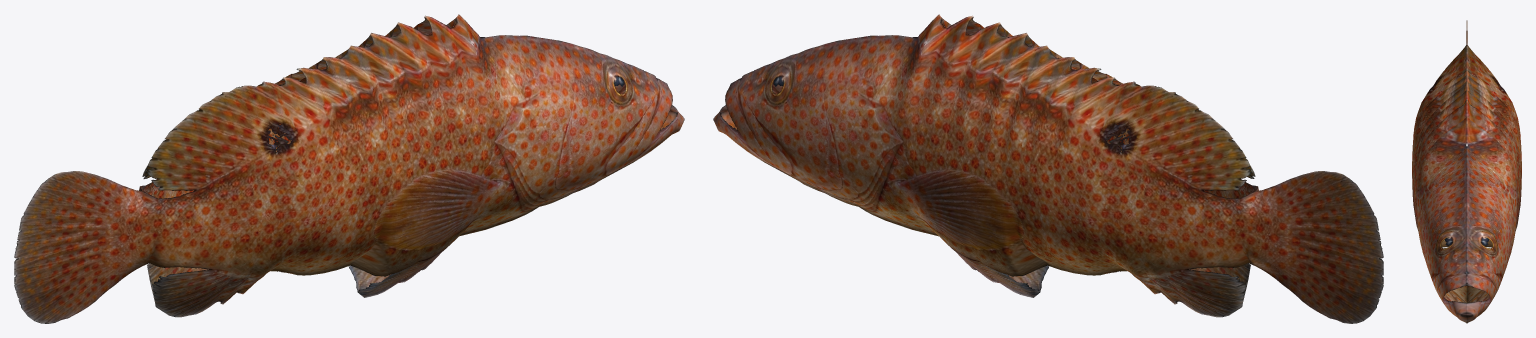
File: spotted-grouper.glb
3 renders of one model, left to right at view 1: azimuth 30°, elevation 25°; view 2: azimuth 150°, elevation 25°; view 3: azimuth 270°, elevation 25°, orthographic. The views are drawn at different scales.
Parts seen in each view (by area): view 1: Epinephelus akaara; view 2: Epinephelus akaara; view 3: Epinephelus akaara.
Boxes of the visible parts, x1,y1,x2,y2 form: Epinephelus akaara: (14, 14, 684, 323); Epinephelus akaara: (713, 14, 1383, 323); Epinephelus akaara: (1412, 20, 1521, 323).
Size of the model in its own units: 0.54 by 0.2073 by 0.1026.
Materials: 1 (1 with a texture image).
